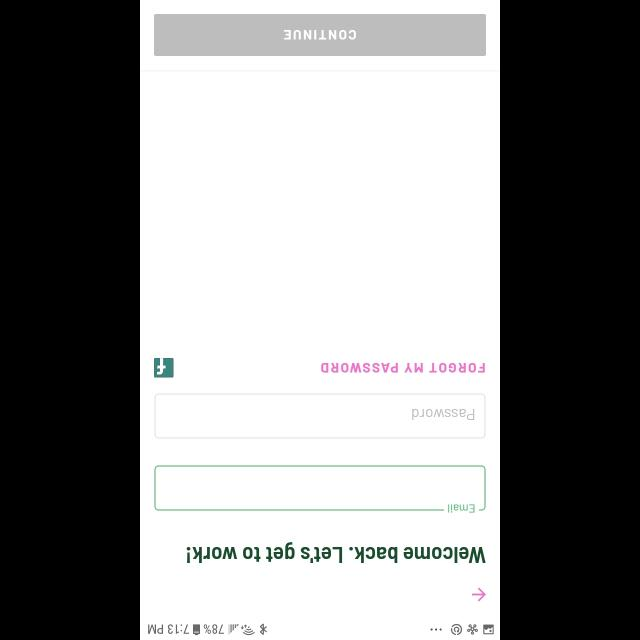icon: (154, 358, 174, 378), (472, 587, 486, 601)
input: (154, 466, 486, 512), (154, 394, 486, 438)
text: (187, 541, 486, 563), (321, 363, 485, 373), (412, 408, 474, 419), (446, 503, 474, 512)
textbutton: (154, 14, 486, 56)
uppertaskbar: (140, 622, 500, 640)
